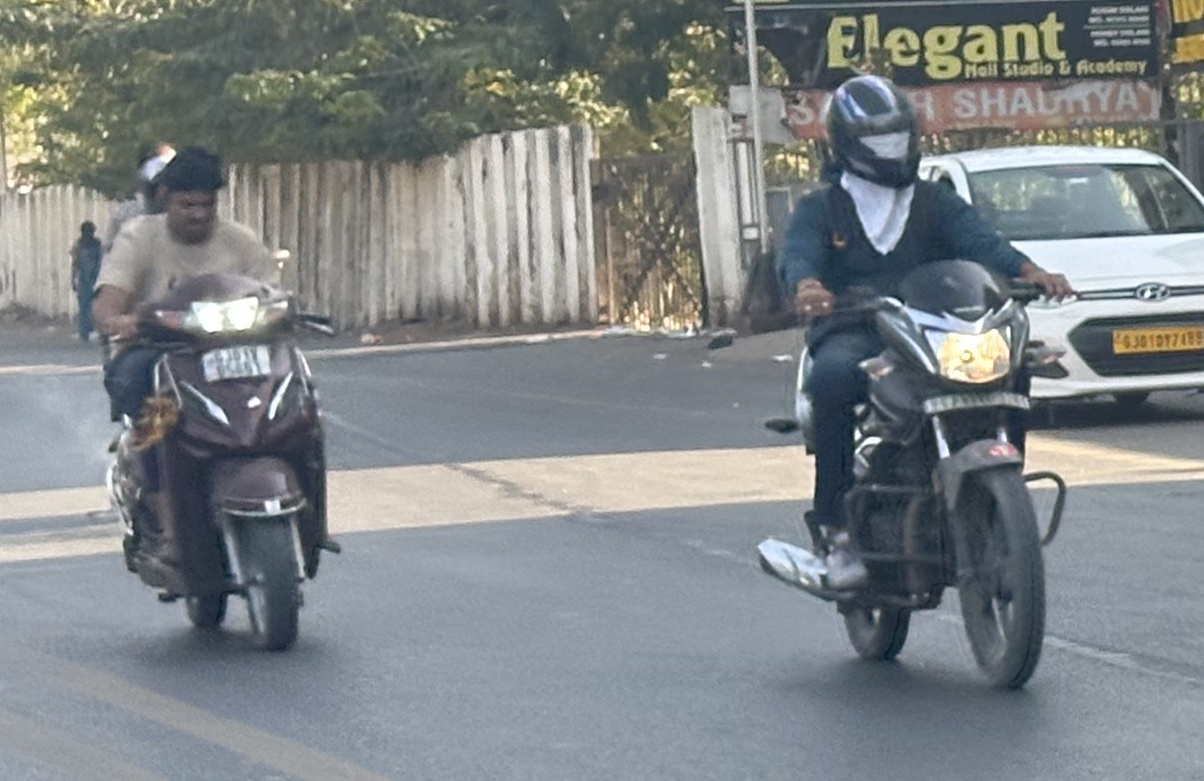BikeWithRider: (729, 58, 1095, 718), (73, 129, 348, 664)
Helmet: (804, 75, 939, 191)
NoHelmet: (149, 143, 237, 238), (121, 124, 204, 214)
